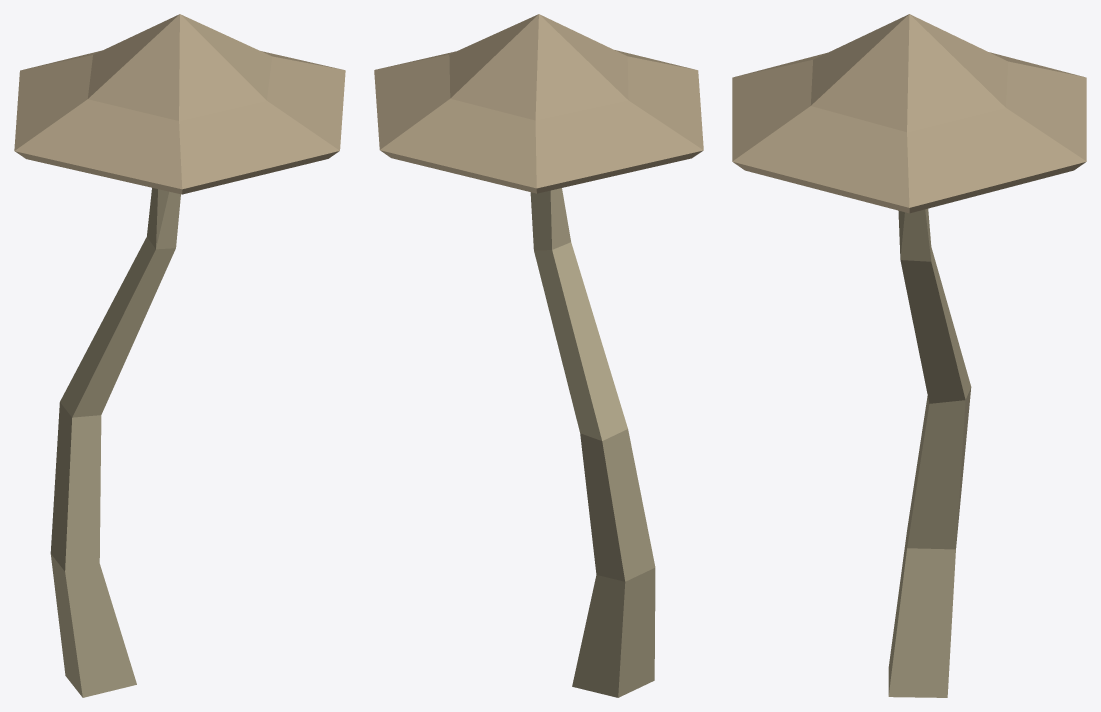
Rendered from Mushroom-C01.fbx.
The picture shows the model from 3 angles, left to right: view 1: azimuth 30°, elevation 25°; view 2: azimuth 150°, elevation 25°; view 3: azimuth 270°, elevation 25°; orthographic projection. The views are drawn at different scales.
Parts seen in each view (by area): view 1: Mushroom-C01; view 2: Mushroom-C01; view 3: Mushroom-C01.
Boxes of the visible parts, left/top/right/bottom form: Mushroom-C01: left=14, top=14, right=345, bottom=697; Mushroom-C01: left=374, top=14, right=703, bottom=697; Mushroom-C01: left=732, top=14, right=1086, bottom=697.
Bounding box in the file's own units: 56.58 × 106 × 48.01.
